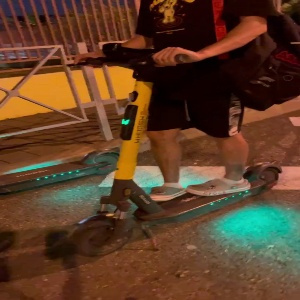human on a scooter: (67, 1, 300, 263)
